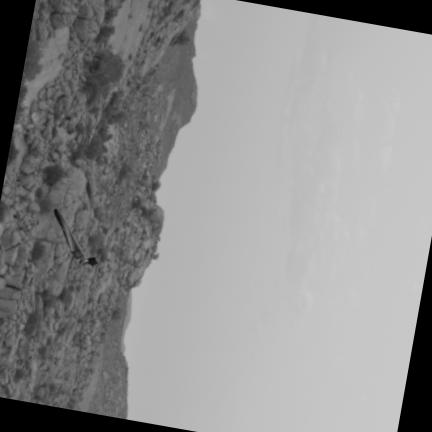Shahed: (54, 209, 96, 266)
